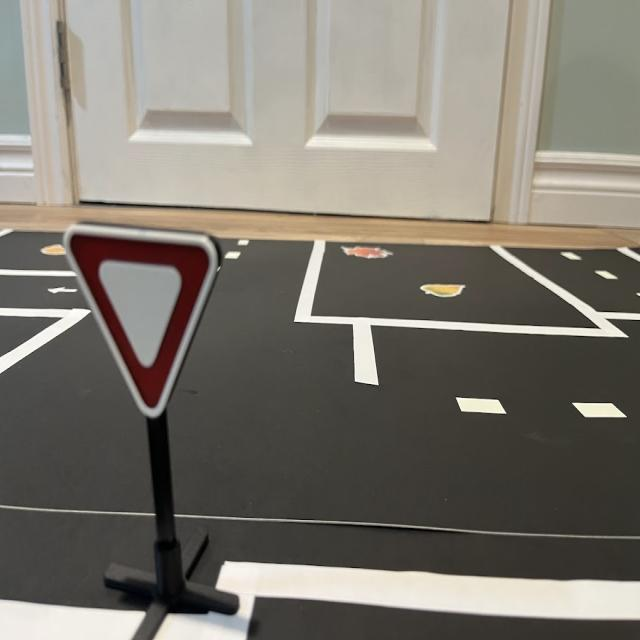road_oneway: (46, 283, 81, 301)
sign_yield: (64, 226, 223, 421)
